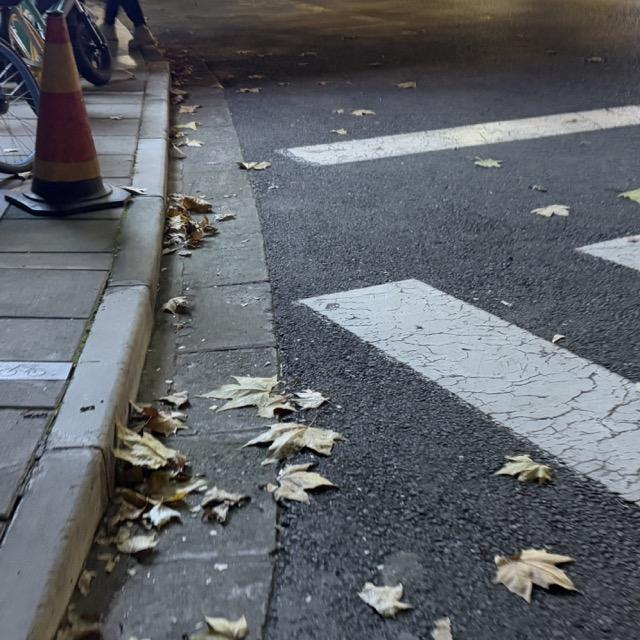curb: (0, 71, 168, 639)
